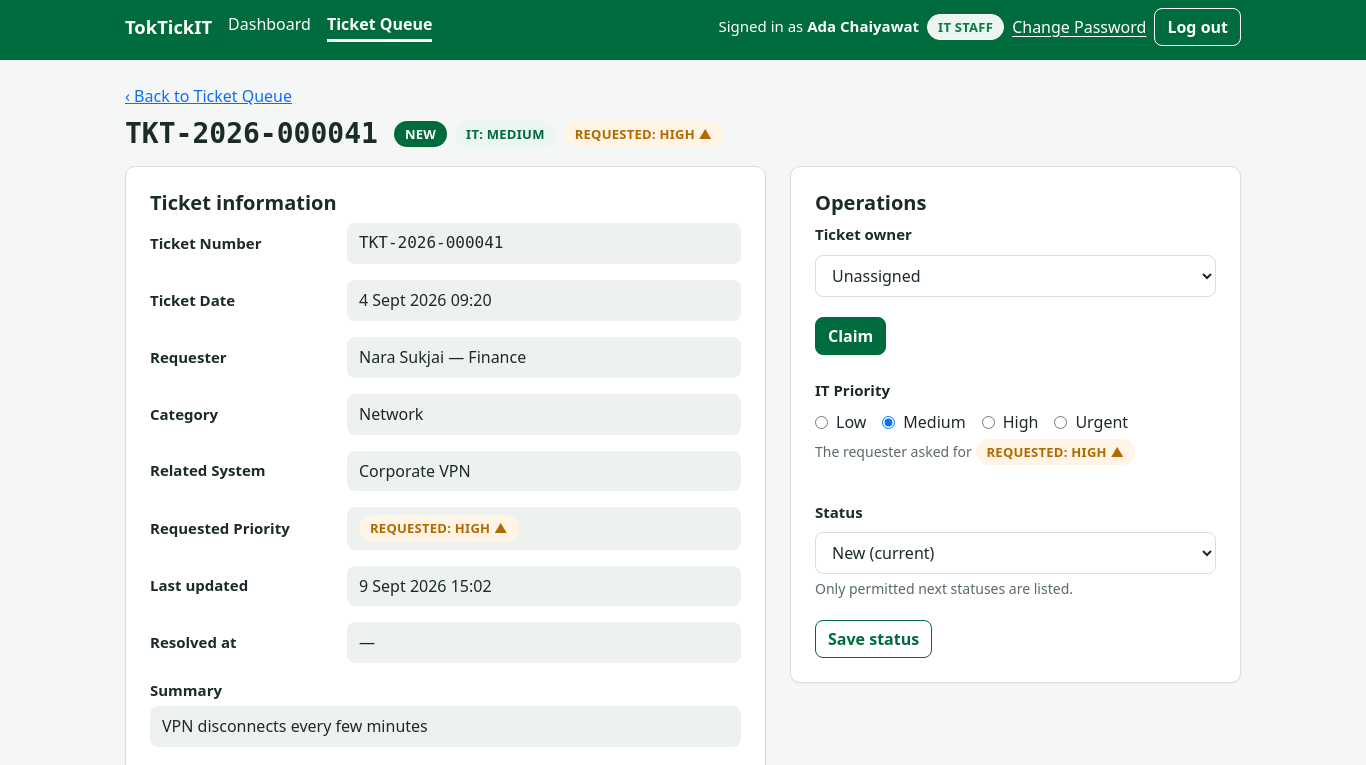
UI-27 the assignment controls (ui-spec §8.2) › claiming a NEW Ticket shows the caller as owner and the status as Open from the same response (AC-36)
Click the button "Claim".
click(851, 336)  # box [815,317,886,355]
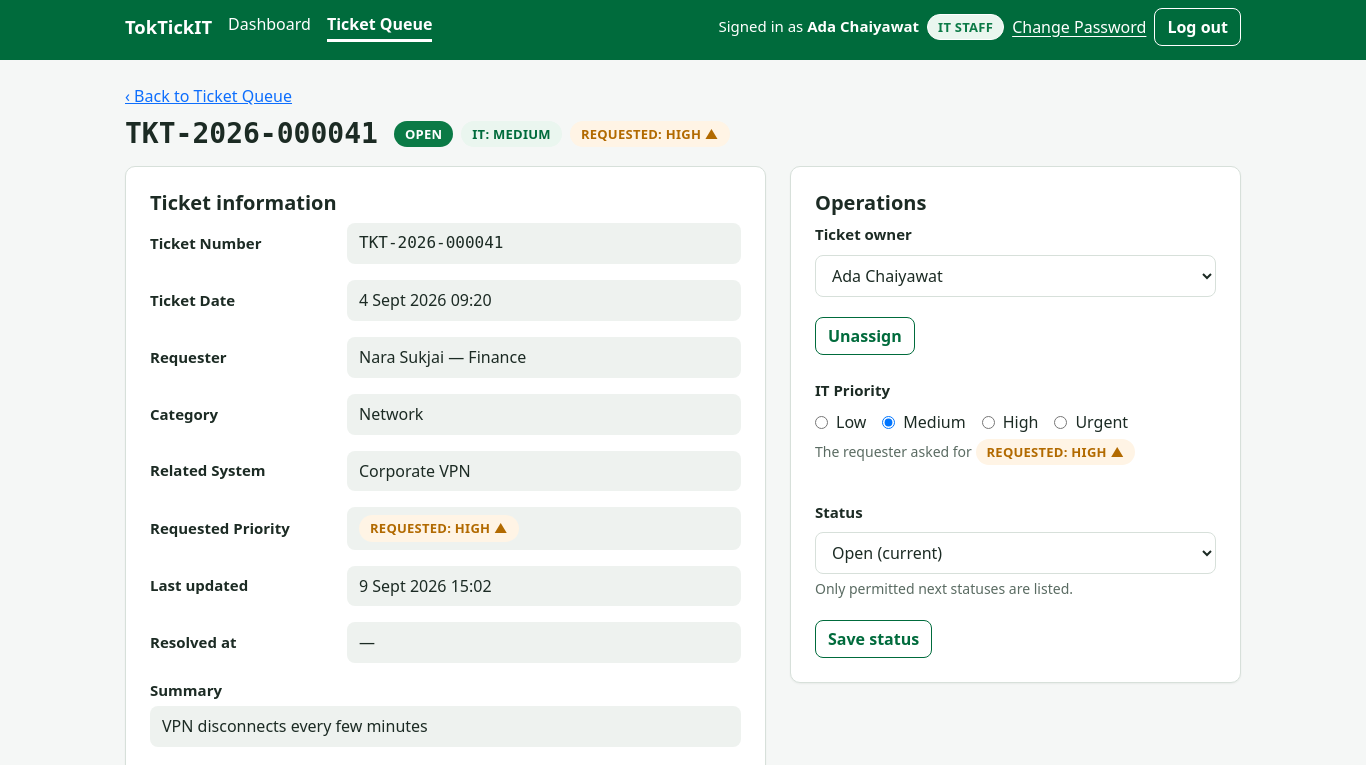
Check: the dropdown labelled "Ticket owner" shows "Ada Chaiyawat", box [815,255,1216,297]
Check: the element with test id "ticket-badges" shows "Open", box [405,124,442,142]
